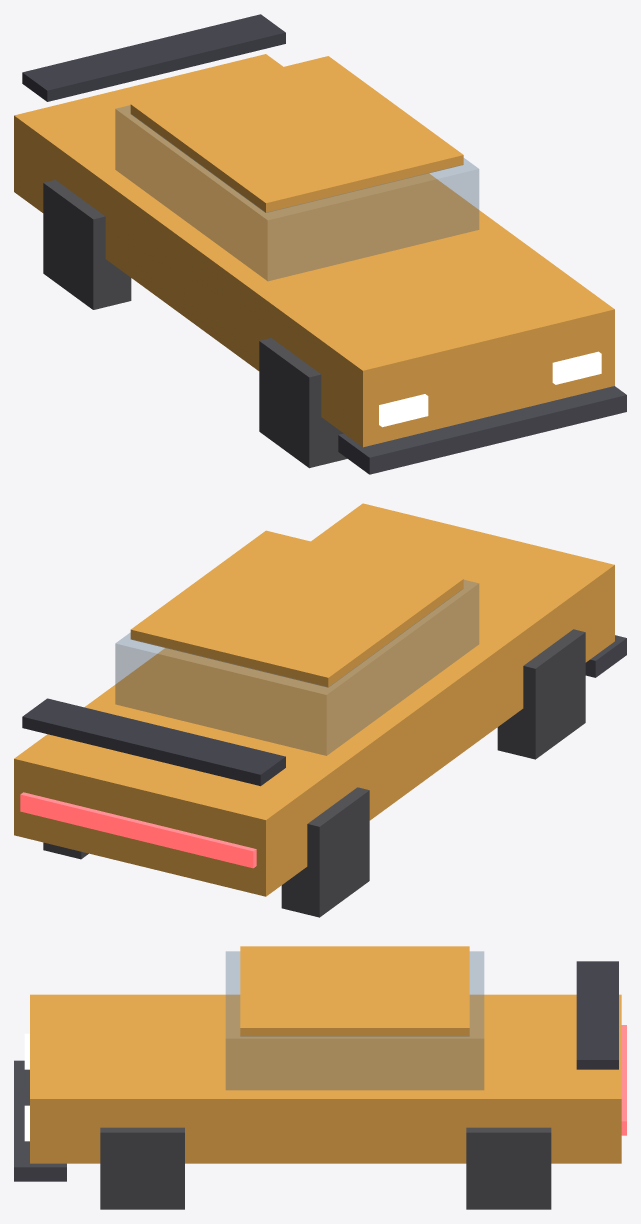
File: supercar.glb
The picture shows the model from 3 angles, top to bottom: view 1: azimuth 30°, elevation 25°; view 2: azimuth 150°, elevation 25°; view 3: azimuth 270°, elevation 25°; orthographic projection. The views are drawn at different scales.
Visible parts, largest first — view 1: chassis, roof, cabin_glass, rear_spoiler, splitter, wheel_RL, wheel_FL, headlight_L, headlight_R; view 2: chassis, roof, cabin_glass, rear_spoiler, wheel_FL, wheel_RL, taillight_bar, splitter; view 3: chassis, roof, cabin_glass, wheel_RR, wheel_FR, rear_spoiler, splitter, taillight_bar.
Boxes of the visible parts, x1,y1,x2,y2 form: chassis: (14,54,614,447); roof: (130,56,463,212); cabin_glass: (115,105,478,280); rear_spoiler: (22,14,285,101); splitter: (338,386,626,474); wheel_RL: (43,180,131,309); wheel_FL: (259,338,347,468); headlight_L: (379,394,428,427); headlight_R: (552,351,601,384); chassis: (14,503,614,896); roof: (130,530,463,687); cabin_glass: (115,580,478,755); rear_spoiler: (22,698,285,786); wheel_FL: (497,629,585,759); wheel_RL: (281,787,369,917); taillight_bar: (20,792,256,868); splitter: (585,635,626,677); chassis: (30,994,621,1163); roof: (240,946,469,1036); cabin_glass: (226,951,483,1089); wheel_RR: (466,1127,551,1209); wheel_FR: (100,1127,184,1209); rear_spoiler: (576,961,618,1069); splitter: (14,1060,66,1181); taillight_bar: (621,1025,626,1135).
Size of the model in its own units: 2.04 by 1.37 by 4.62.
